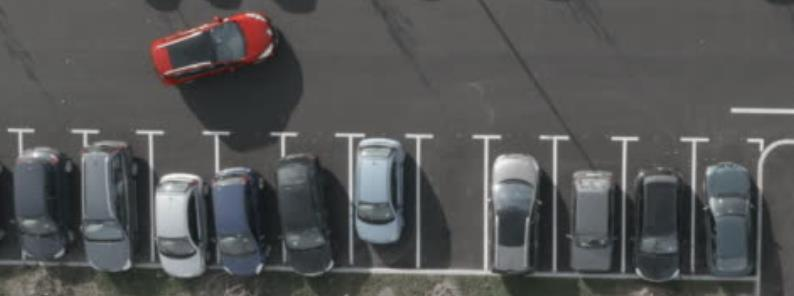car: (150, 9, 283, 86), (72, 141, 140, 275), (10, 145, 77, 263), (274, 153, 335, 277), (485, 152, 545, 277), (699, 157, 757, 279), (149, 169, 211, 281), (210, 168, 272, 280), (629, 164, 685, 283), (352, 133, 408, 248), (566, 165, 621, 272)
